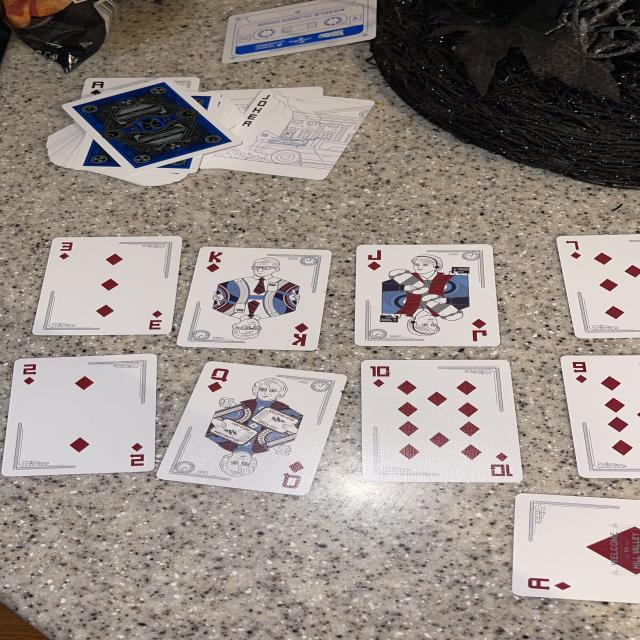10 of diamonds: (360, 360, 522, 482)
2 of diamonds: (2, 354, 156, 476)
3 of diamonds: (31, 236, 182, 335)
7 of diamonds: (556, 234, 640, 339)
9 of diamonds: (560, 355, 640, 478)
Ace of diamonds: (513, 494, 640, 602)
Ace of spades: (82, 78, 151, 98), (164, 78, 200, 91)
Jack of diamonds: (356, 244, 500, 346)
Joker: (62, 79, 240, 172), (202, 90, 373, 180)
King of diamonds: (178, 246, 331, 351)
Queen of diamonds: (158, 361, 347, 495)
card back: (73, 135, 124, 174), (151, 156, 200, 174)
